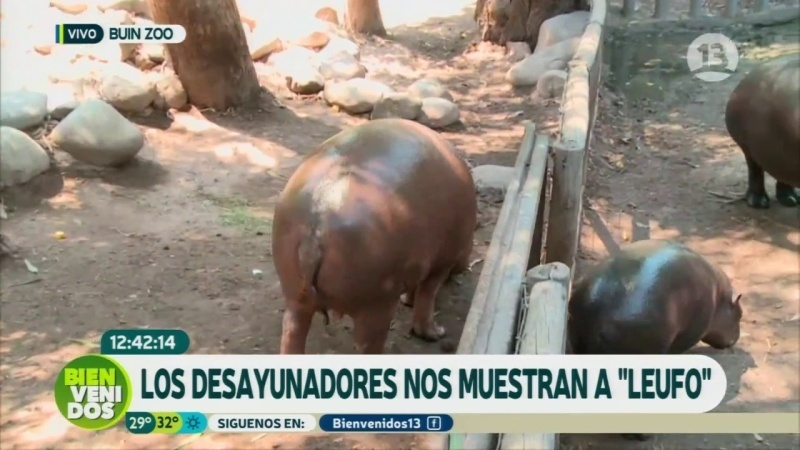hipopotamo: (241, 107, 488, 353), (566, 223, 749, 358)
